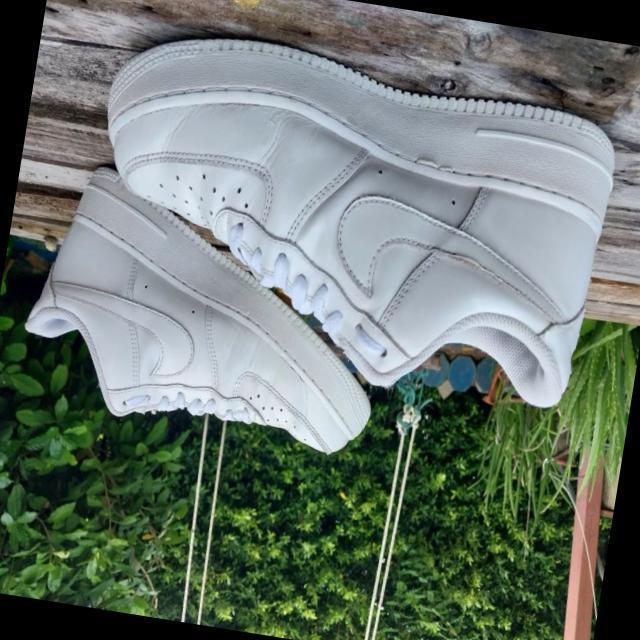nike original air force: (58, 19, 626, 420), (11, 163, 407, 465)
